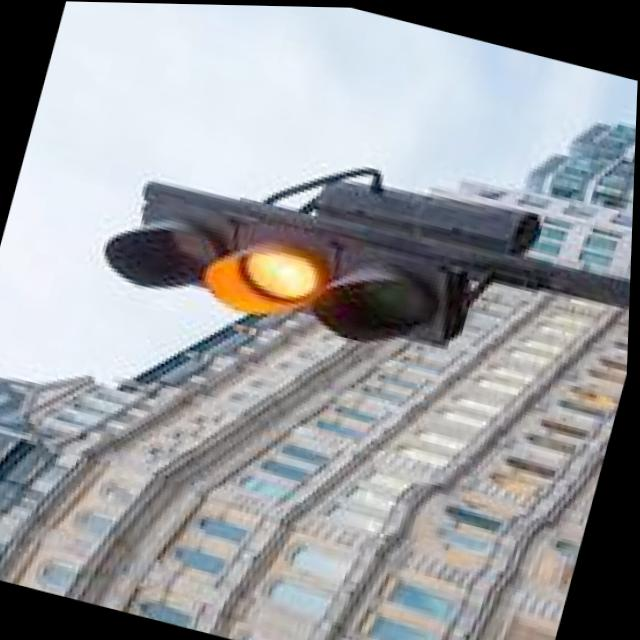yellow_light: (203, 212, 348, 335)
